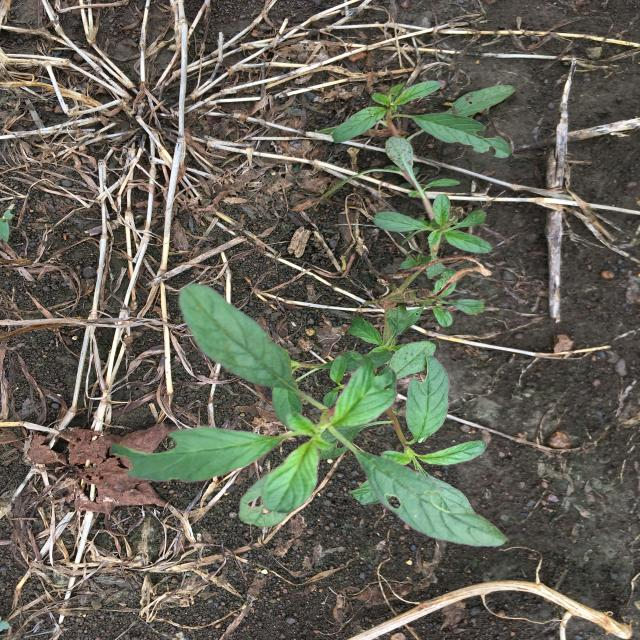Waterhemp: (111, 80, 518, 547)
